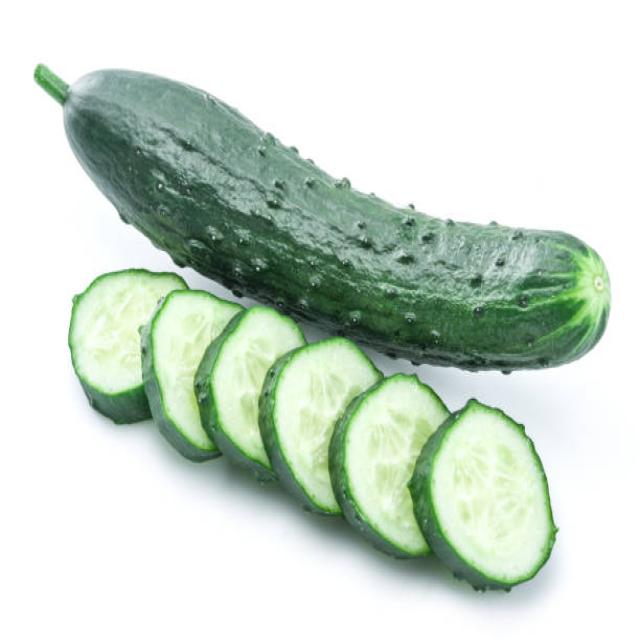cucumber: (62, 67, 611, 372)
